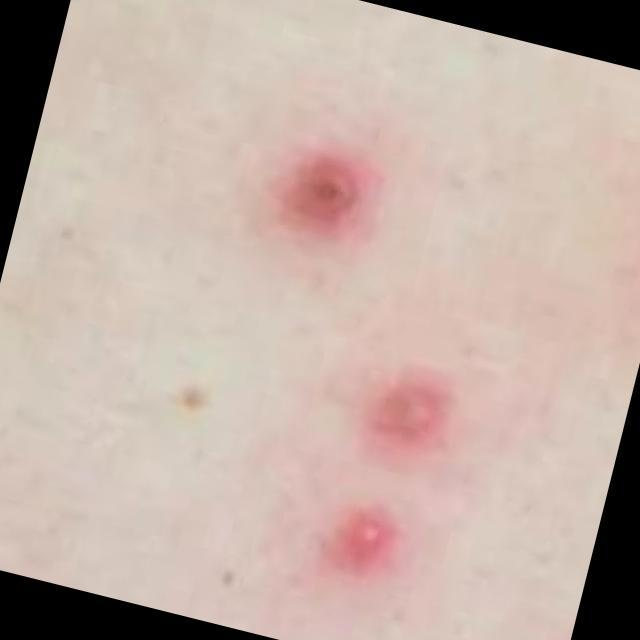Eczema: (258, 156, 381, 266), (355, 371, 443, 447), (324, 518, 410, 586)
